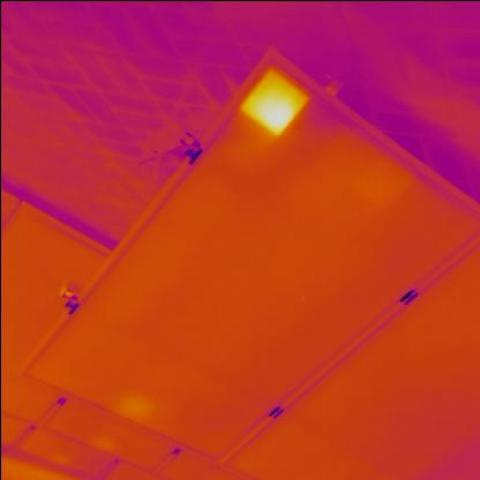fault: (253, 77, 301, 131)
